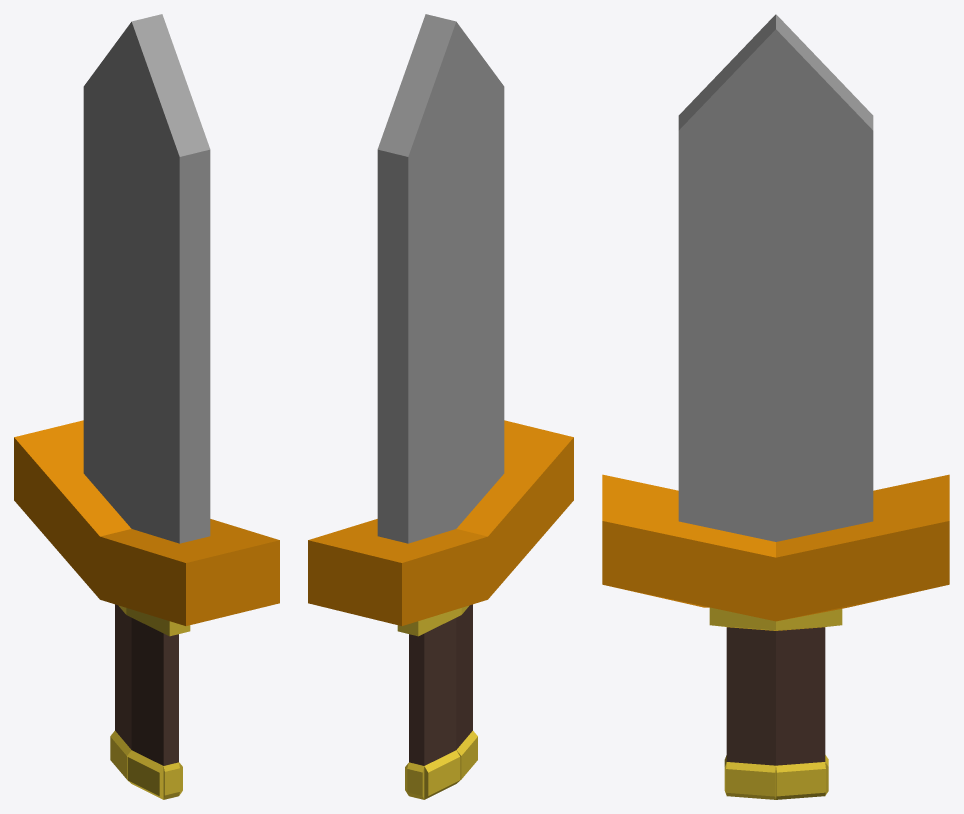
File: medium sword.fbx
The picture shows the model from 3 angles, left to right: view 1: azimuth 30°, elevation 25°; view 2: azimuth 150°, elevation 25°; view 3: azimuth 270°, elevation 25°; orthographic projection.
Visible parts, largest first — view 1: Cube; view 2: Cube; view 3: Cube.
Part boxes in pixels (bbox=[...]): Cube: bbox=[14, 14, 279, 799]; Cube: bbox=[308, 14, 573, 799]; Cube: bbox=[602, 14, 949, 799].
Bounding box in the file's own units: 60.79 × 472 × 193.
